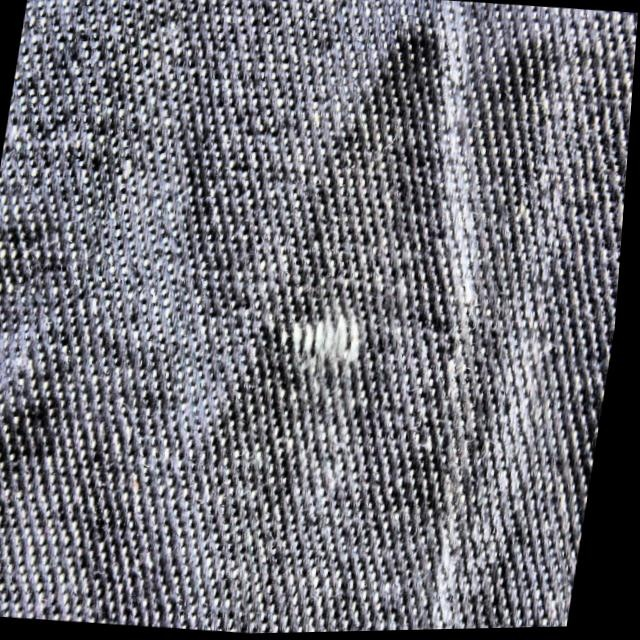Hole: (285, 312, 364, 364)
